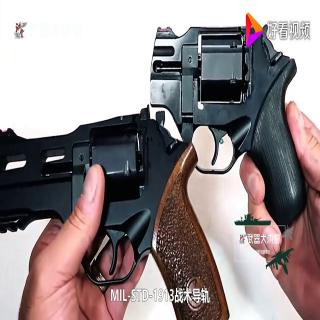gun: (0, 119, 230, 320), (148, 18, 312, 220)
